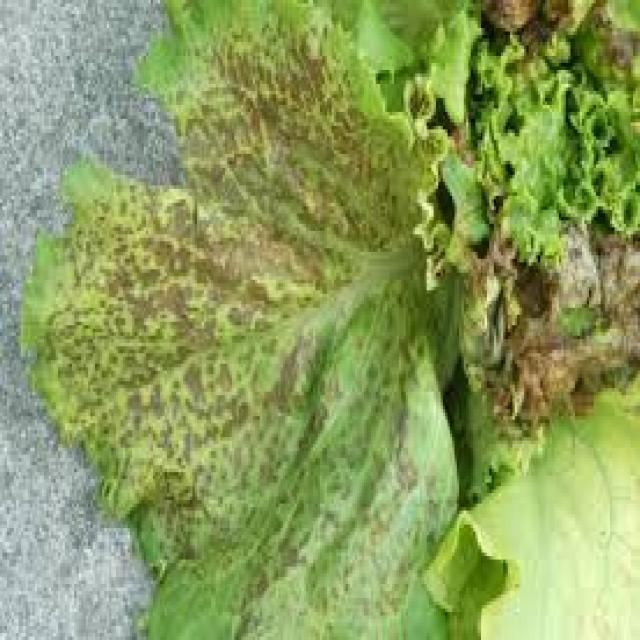Wilt_and_leaf_blight_on_lettuce: (58, 14, 472, 633)
